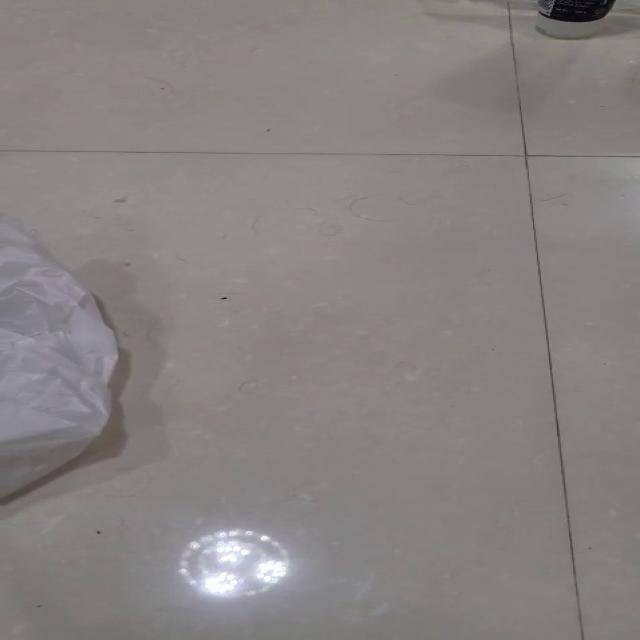plastic: (0, 215, 119, 500)
